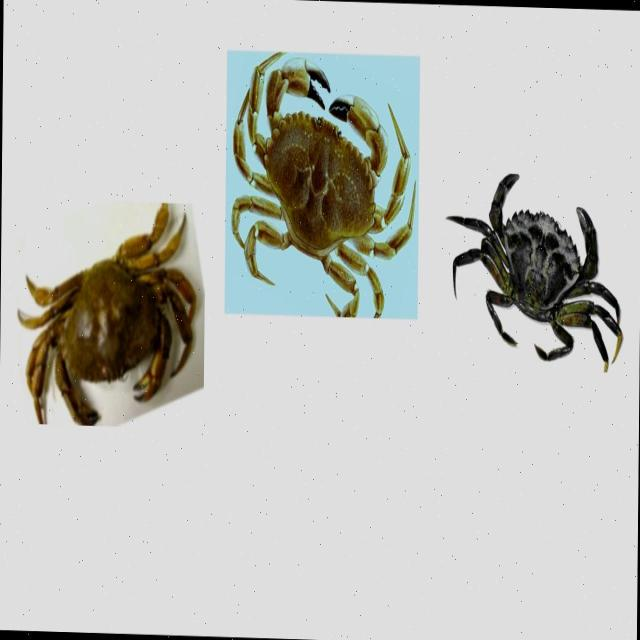egc: (443, 170, 624, 372)
